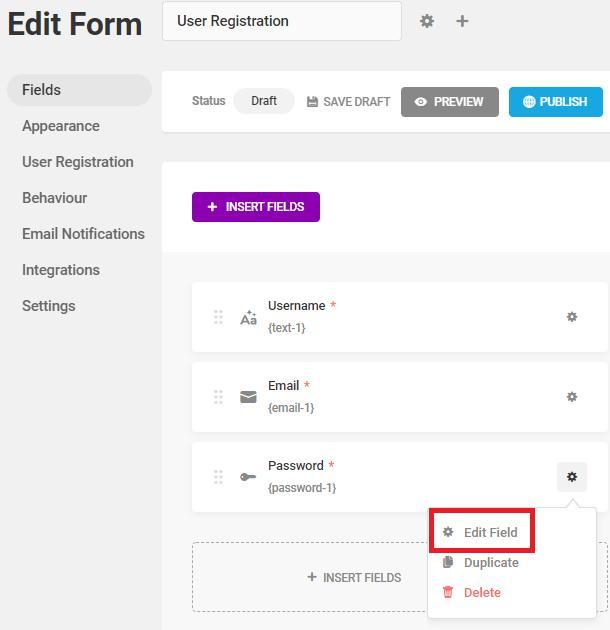button: (194, 192, 322, 225), (402, 88, 500, 117), (511, 89, 605, 116), (234, 89, 296, 116)
icon: (208, 386, 231, 414), (235, 387, 260, 409), (208, 463, 228, 489), (233, 469, 256, 489), (209, 306, 228, 329), (241, 308, 259, 329), (441, 553, 456, 573), (456, 13, 472, 30), (306, 94, 322, 111), (421, 13, 436, 31), (566, 473, 581, 486), (568, 392, 581, 405), (566, 312, 580, 324), (443, 587, 454, 602), (442, 525, 453, 539)
input: (164, 4, 403, 41), (7, 74, 154, 108)
label: (8, 13, 145, 39), (18, 153, 141, 174), (22, 226, 149, 244), (19, 187, 95, 211), (20, 116, 110, 135), (22, 262, 105, 280), (19, 296, 82, 317), (459, 524, 528, 543), (323, 94, 394, 111), (464, 556, 525, 572), (460, 584, 508, 604), (189, 96, 228, 108)
